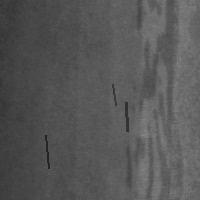inclusion: (124, 1, 180, 197), (43, 133, 50, 170), (110, 82, 117, 107), (124, 100, 129, 133)
